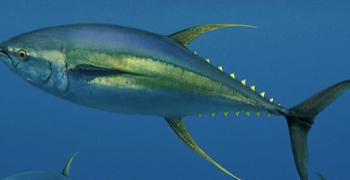Scombridae -Tunas-: (0, 10, 350, 180)
